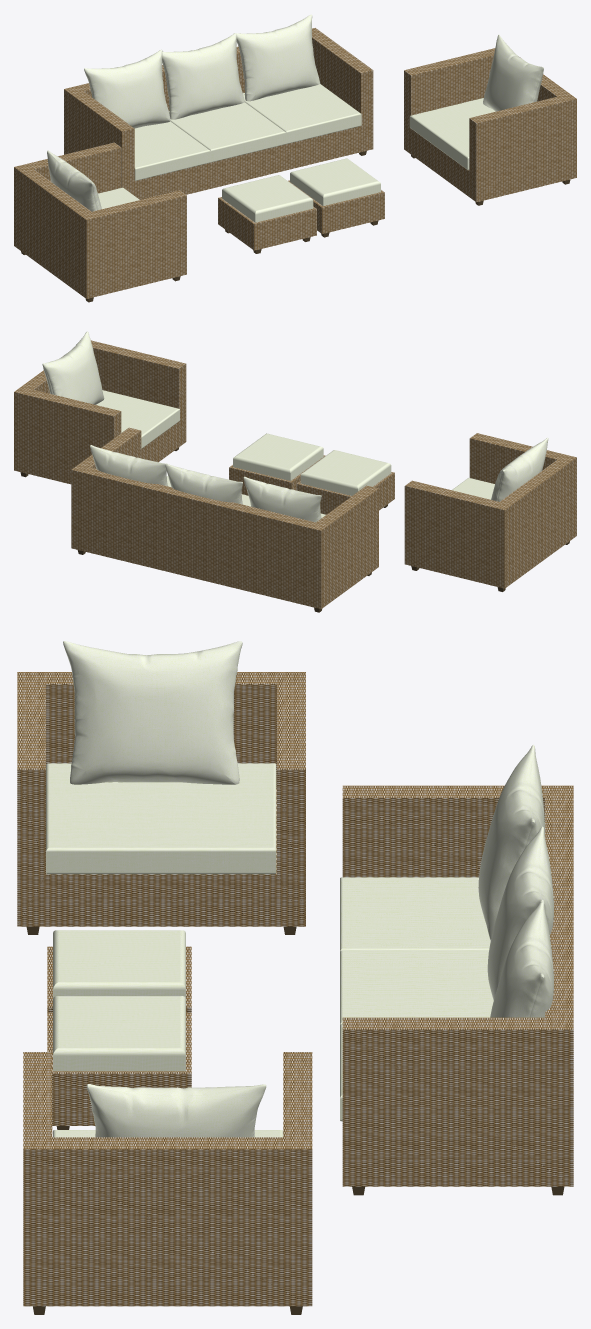
The model's file is furniture 6.dae.
3 renders of one model, top to bottom at view 1: azimuth 30°, elevation 25°; view 2: azimuth 150°, elevation 25°; view 3: azimuth 270°, elevation 25°, orthographic. The views are drawn at different scales.
Parts seen in each view (by area): view 1: Component_2 (×5), group_6, group_21, Component_1 (×5), group_1, group_11 (×2), group_16 (×2); view 2: group_1, group_6, group_21, Component_2 (×5), group_11 (×2), group_16 (×2), Component_1 (×2); view 3: group_1, group_21, Component_2 (×5), Component_1 (×3), group_6, group_16 (×2), group_11.
Part boxes in pixels (x1,y1,x2,y2): Component_2 (×5): (47,14,543,211); group_6: (14,142,186,298); group_21: (404,48,576,202); Component_1 (×5): (98,84,495,209); group_1: (64,28,373,199); group_11 (×2): (218,175,316,250); group_16 (×2): (288,158,384,233); group_1: (71,427,378,608); group_6: (404,433,576,588); group_21: (14,340,186,484); Component_2 (×5): (42,331,548,522); group_11 (×2): (296,450,394,514); group_16 (×2): (229,433,325,495); Component_1 (×2): (96,390,494,499); group_1: (342,785,573,1186); group_21: (23,1052,312,1306); Component_2 (×5): (63,641,553,1137); Component_1 (×3): (46,763,493,1024); group_6: (17,672,305,926); group_16 (×2): (47,996,191,1125); group_11: (53,930,185,998).
Size of the model in its own units: 154 by 75.89 by 33.26.
Materials: 6 (3 with a texture image).
